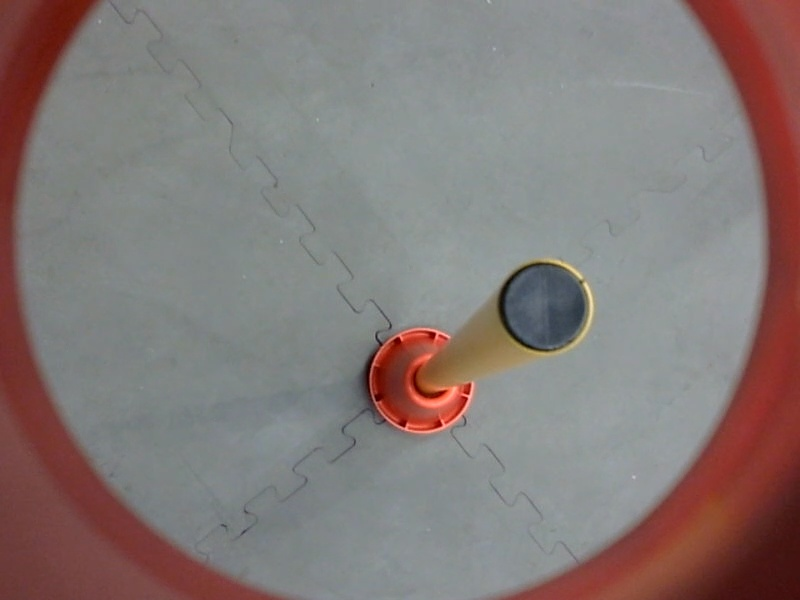tip: (487, 240, 602, 367)
